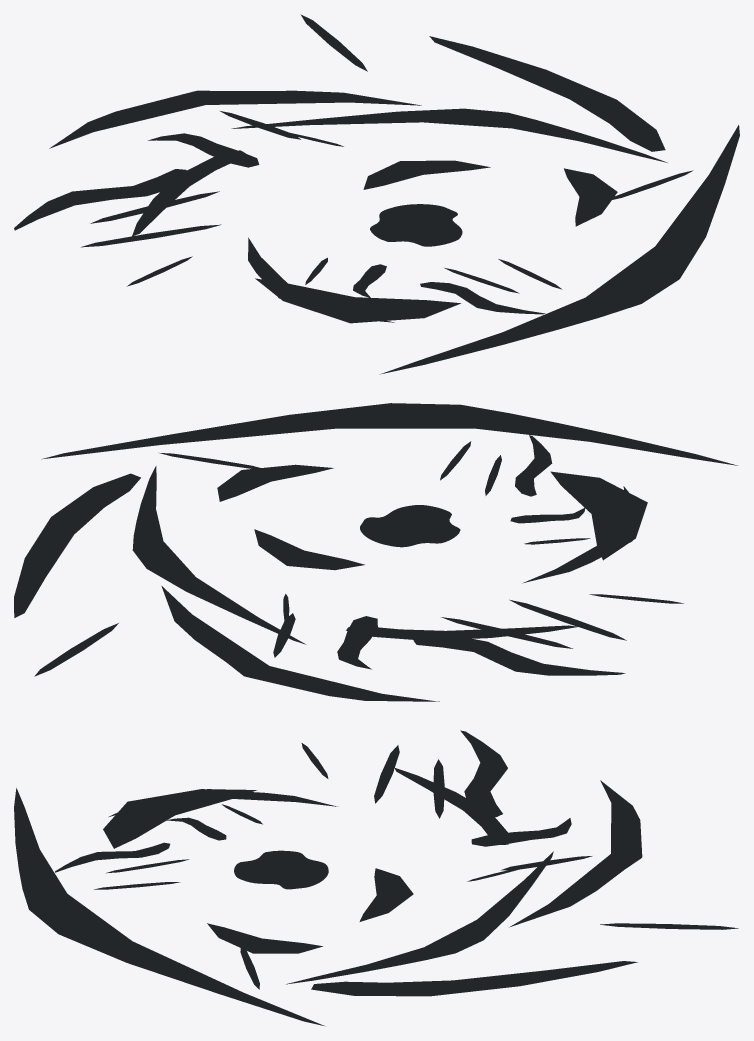
File: pumpkin_ash.fbx
3 views of the same model, one above another, from view 1: azimuth 30°, elevation 25°; view 2: azimuth 150°, elevation 25°; view 3: azimuth 270°, elevation 25° (orthographic). The views are drawn at different scales.
Visible parts, largest first — view 1: pumpkin_ash; view 2: pumpkin_ash; view 3: pumpkin_ash.
Boxes of the visible parts, x1,y1,x2,y2 form: pumpkin_ash: (14,14,739,374); pumpkin_ash: (14,403,738,701); pumpkin_ash: (14,730,738,1025).
Size of the model in its own units: 163 by 8.86e-07 by 169.
